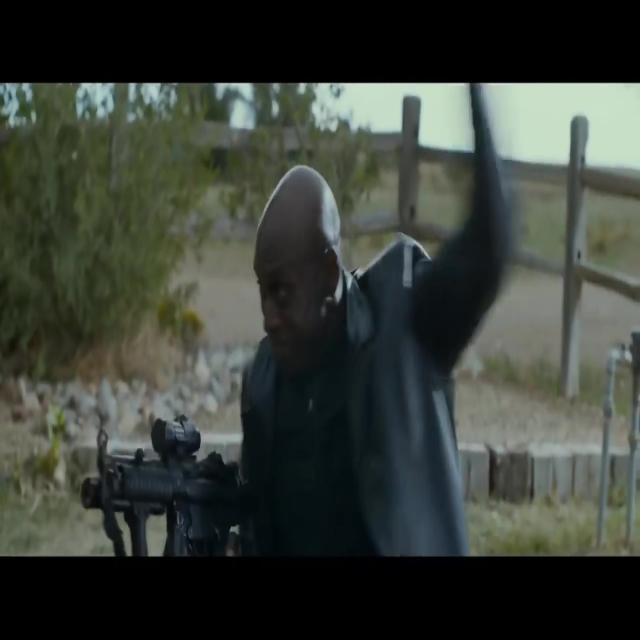Weapon: (59, 406, 329, 582)
